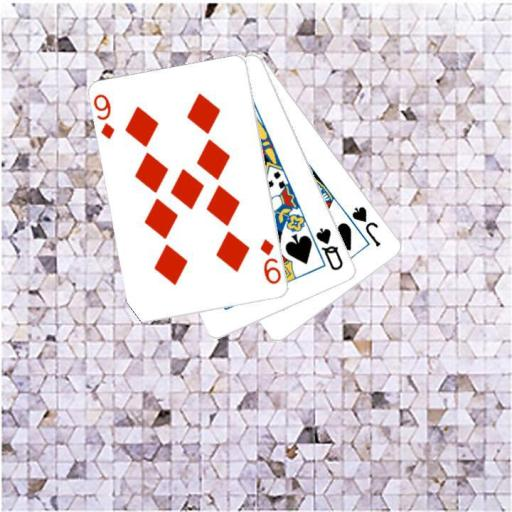9D: (257, 236, 282, 286), (92, 91, 117, 141)
JS: (349, 203, 383, 248)
QS: (313, 224, 345, 272)
